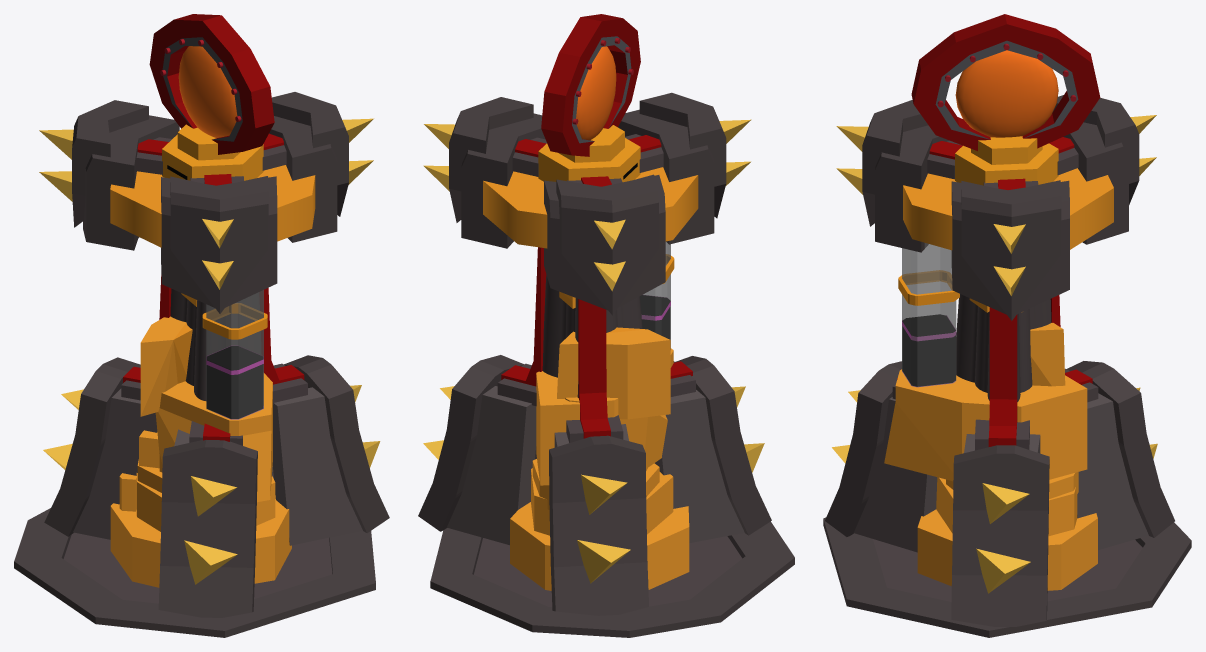
The model's file is infernotower.fbx.
3 renders of one model, left to right at view 1: azimuth 30°, elevation 25°; view 2: azimuth 150°, elevation 25°; view 3: azimuth 270°, elevation 25°, orthographic.
Parts seen in each view (by area): view 1: G-Object.001; view 2: G-Object.001; view 3: G-Object.001.
Part boxes in pixels (x1=…): G-Object.001: x1=14, y1=14, x2=389, y2=637; G-Object.001: x1=418, y1=14, x2=794, y2=637; G-Object.001: x1=823, y1=14, x2=1191, y2=637.
Size of the model in its own units: 108 by 167 by 103.
